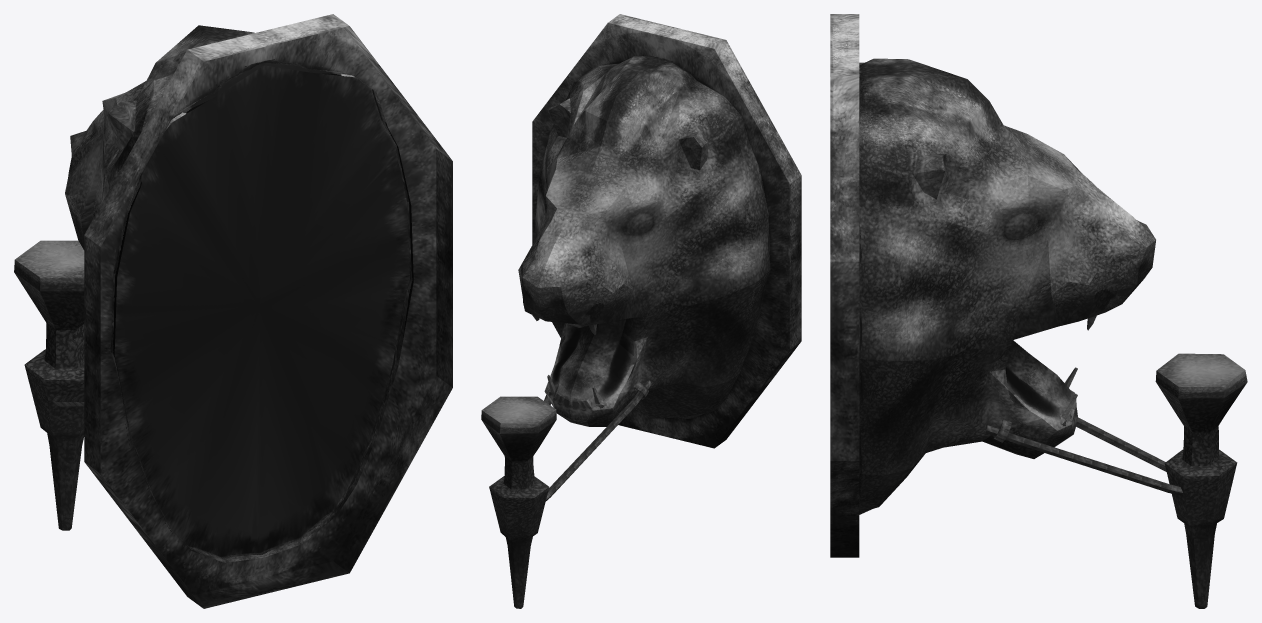
File: Prop_SM_LionHeadTorch.fbx
3 renders of one model, left to right at view 1: azimuth 30°, elevation 25°; view 2: azimuth 150°, elevation 25°; view 3: azimuth 270°, elevation 25°, orthographic. The views are drawn at different scales.
Visible parts, largest first — view 1: lionheadtrap; view 2: lionheadtrap; view 3: lionheadtrap.
Boxes of the visible parts, x1,y1,x2,y2 form: lionheadtrap: (14,14,452,608); lionheadtrap: (481,14,801,608); lionheadtrap: (830,14,1247,608).
Bounding box in the file's own units: 0.7462 × 1.3 × 0.8713.
